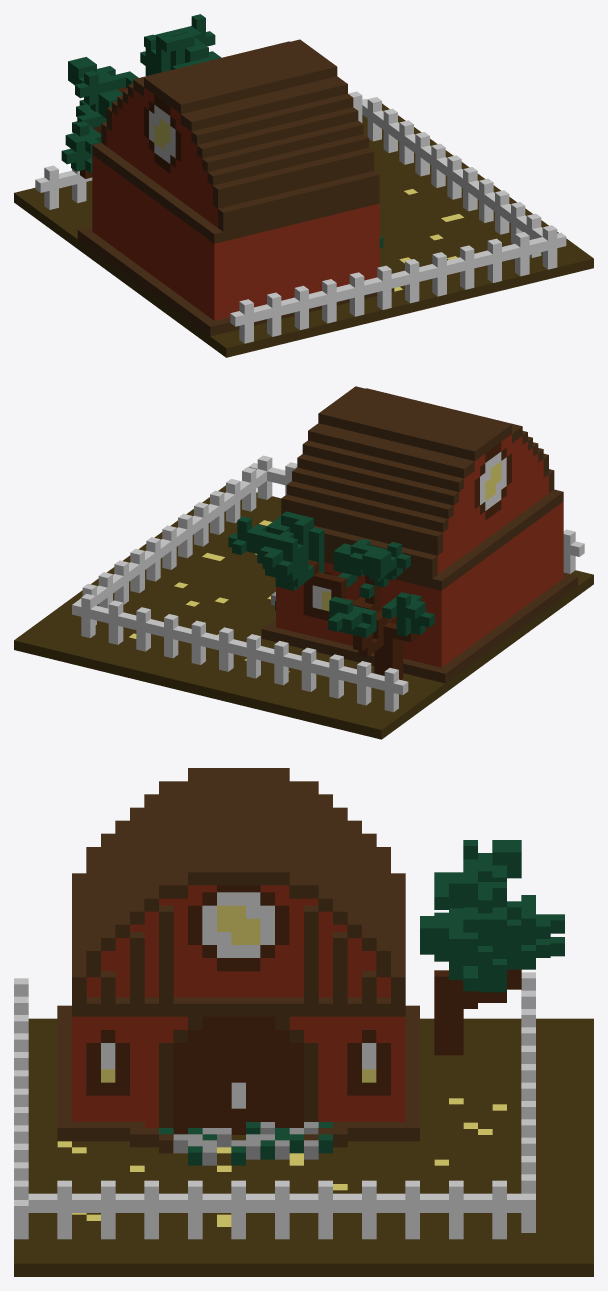
File: ciftlik.obj
The picture shows the model from 3 angles, top to bottom: view 1: azimuth 30°, elevation 25°; view 2: azimuth 150°, elevation 25°; view 3: azimuth 270°, elevation 25°; orthographic projection. The views are drawn at different scales.
Parts seen in each view (by area): view 1: ciftlik; view 2: ciftlik; view 3: ciftlik.
Boxes of the visible parts, x1=… form: ciftlik: x1=14, y1=14, x2=593, y2=357; ciftlik: x1=14, y1=386, x2=593, y2=739; ciftlik: x1=14, y1=768, x2=593, y2=1276.
Bounding box in the file's own units: 40 × 21 × 40.
Materials: 1 (1 with a texture image).
